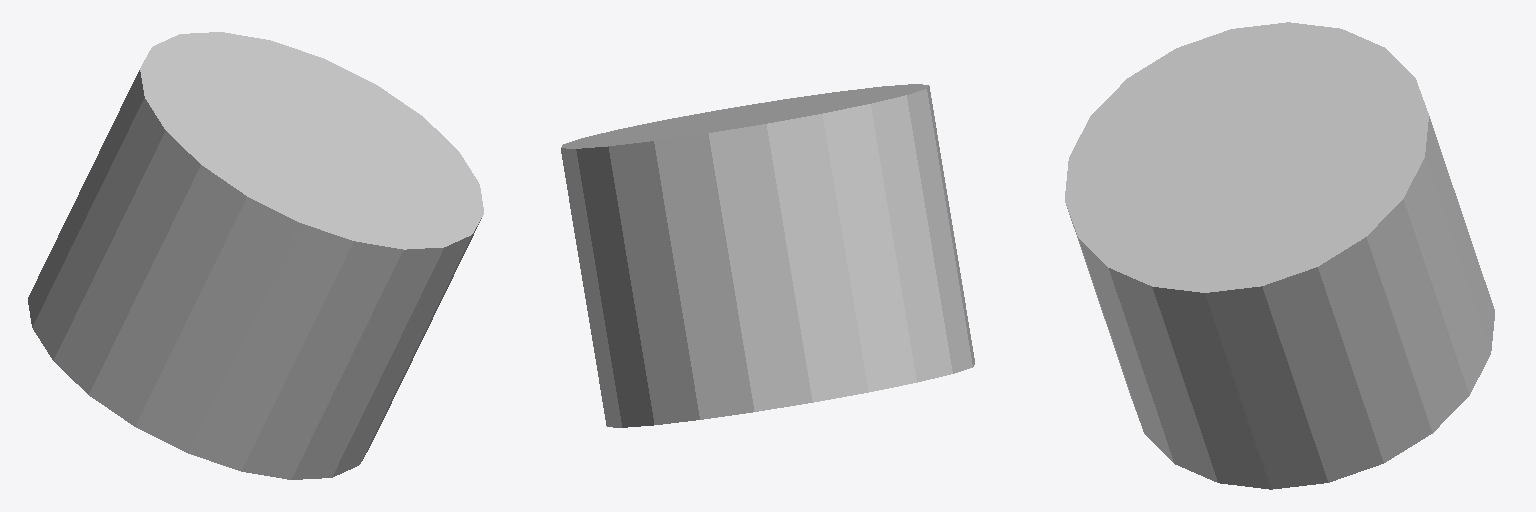
The model's file is Nervio_supraclavicular_I_3.obj.
3 renders of one model, left to right at view 1: azimuth 30°, elevation 25°; view 2: azimuth 150°, elevation 25°; view 3: azimuth 270°, elevation 25°, orthographic.
Parts seen in each view (by area): view 1: polySurface58; view 2: polySurface58; view 3: polySurface58.
Part boxes in pixels (x1,y1,x2,y2): polySurface58: (28,32,483,479); polySurface58: (561,84,974,427); polySurface58: (1065,22,1494,489).
Size of the model in its own units: 0.0332 by 0.0304 by 0.032.